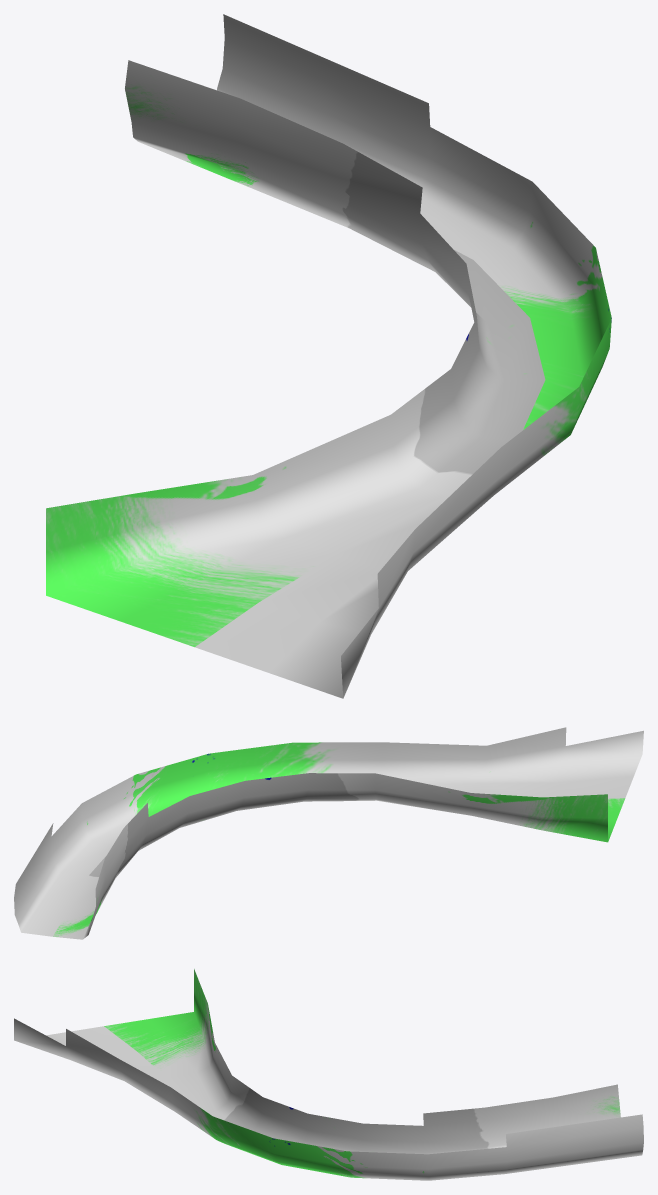
Rendered from Lvl1ExitBottom.fbx.
The picture shows the model from 3 angles, top to bottom: view 1: azimuth 30°, elevation 25°; view 2: azimuth 150°, elevation 25°; view 3: azimuth 270°, elevation 25°; orthographic projection. The views are drawn at different scales.
Parts seen in each view (by area): view 1: ExitBottomCollider; view 2: ExitBottomCollider; view 3: ExitBottomCollider.
Part boxes in pixels (x1,y1,x2,y2): ExitBottomCollider: (46, 14, 611, 698); ExitBottomCollider: (14, 727, 643, 939); ExitBottomCollider: (14, 969, 643, 1180).
Size of the model in its own units: 9.15 by 1.3 by 13.86.
